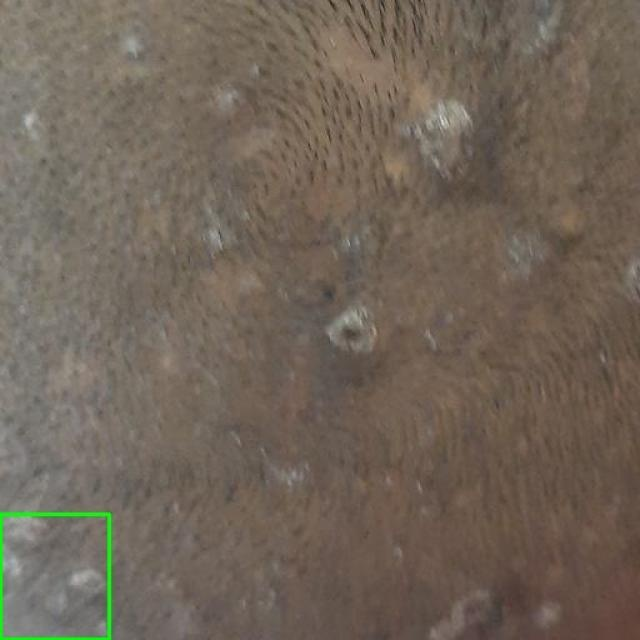Seborrheic Dermatitis: (0, 514, 109, 639)
